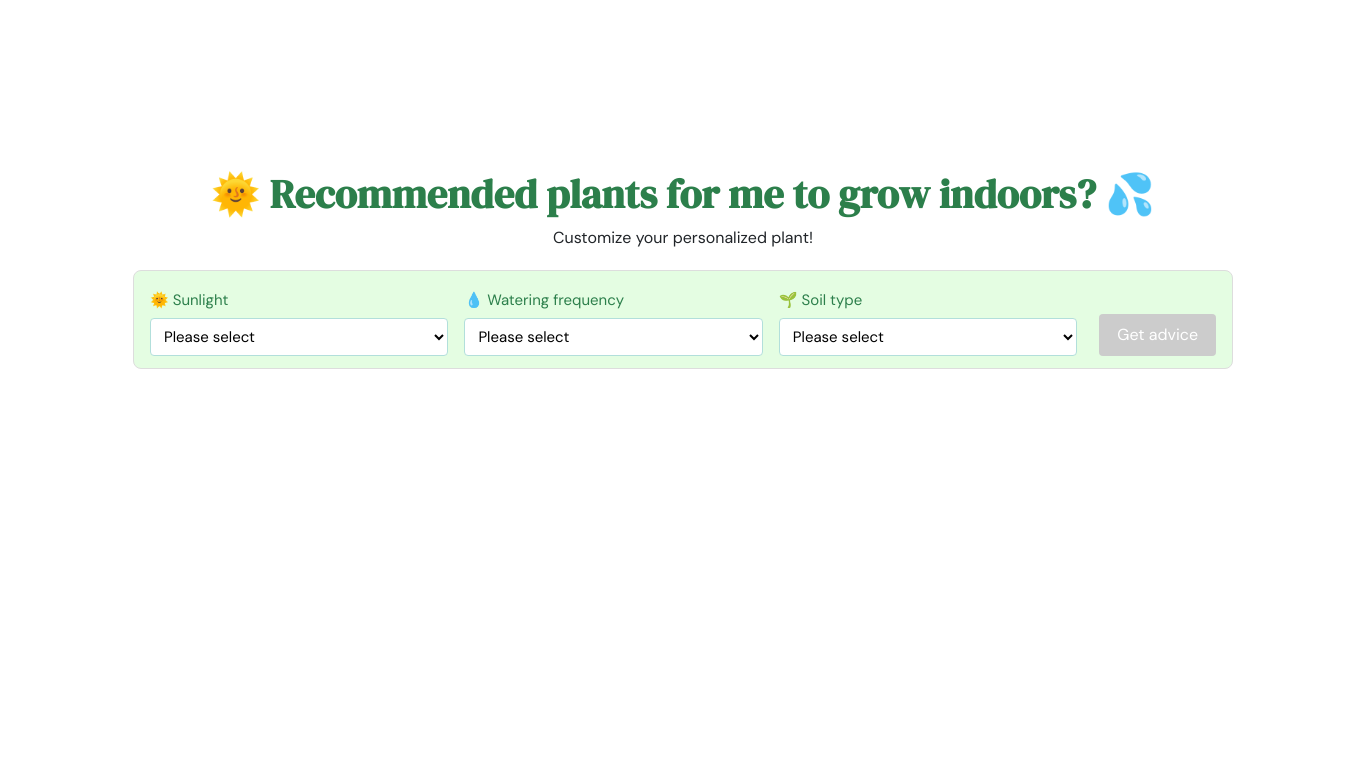
ChatPage › shows loading animation after clicking Get advice
This screenshot has width=1366, height=768.
Step 1. Select "Full sun(8 hours per day)" in the dropdown below "🌞 Sunlight" → [299, 336], box [150,318,448,356]
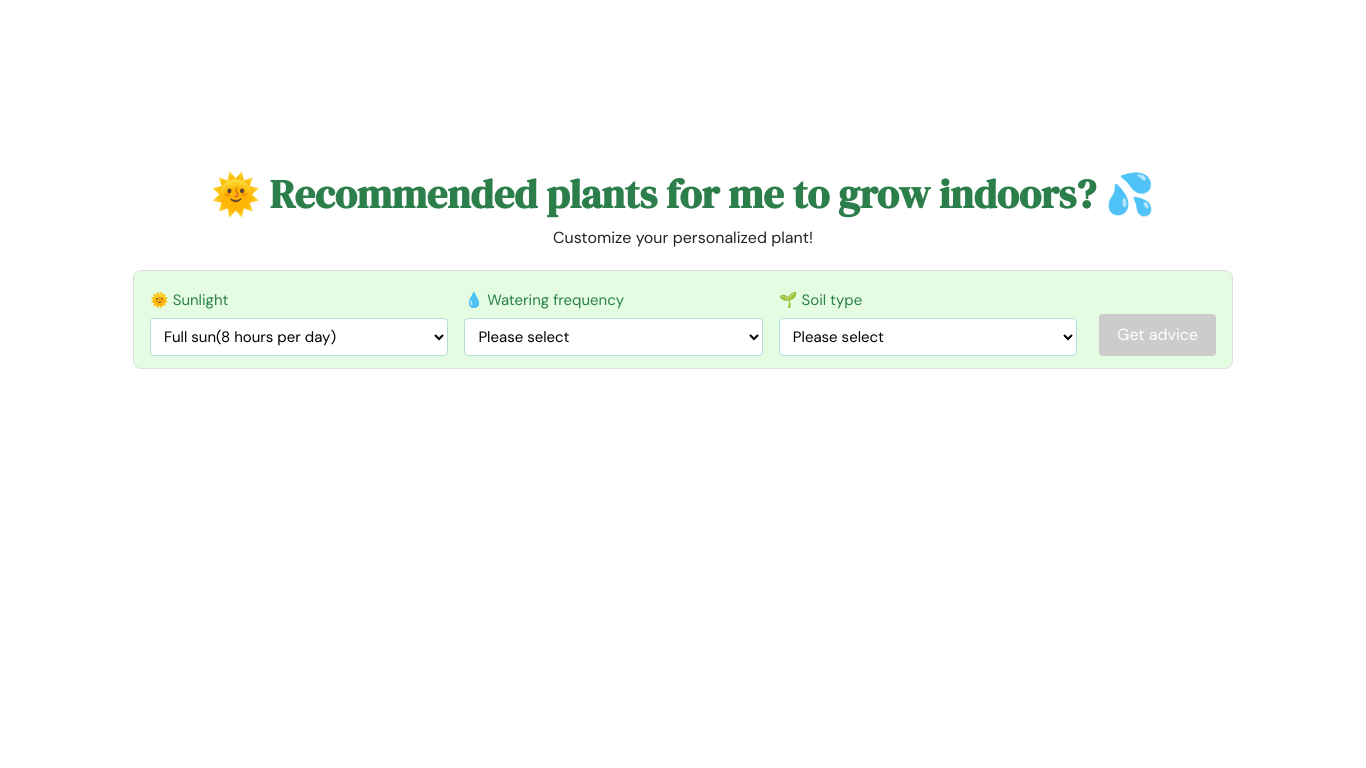
Step 2. Select "Once per week" in the dropdown below "💧 Watering frequency" → [614, 336], box [464,318,763,356]
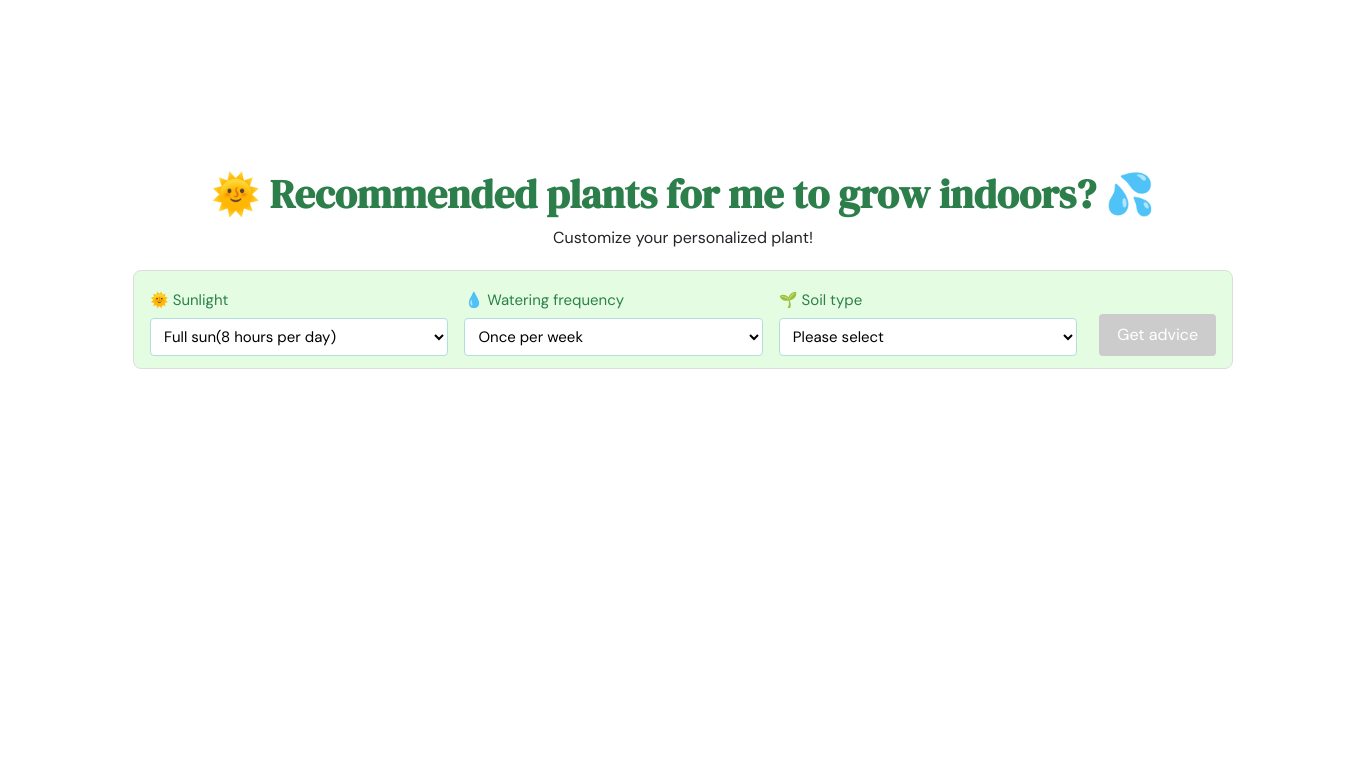
Step 3. Select "Peat soil" in the dropdown below "🌱 Soil type" → [928, 336], box [779,318,1077,356]
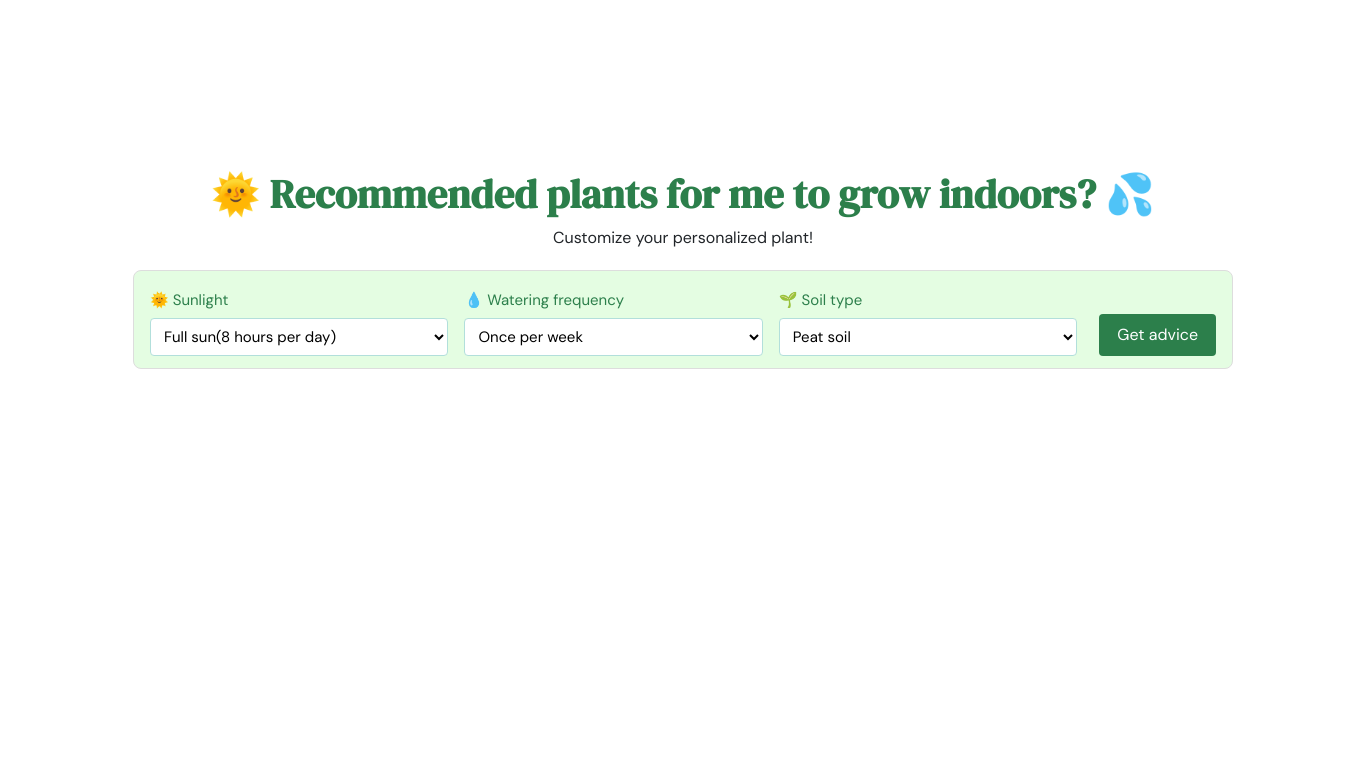
Step 4. Click the button "Get advice" → [1158, 334], box [1099,314,1216,356]
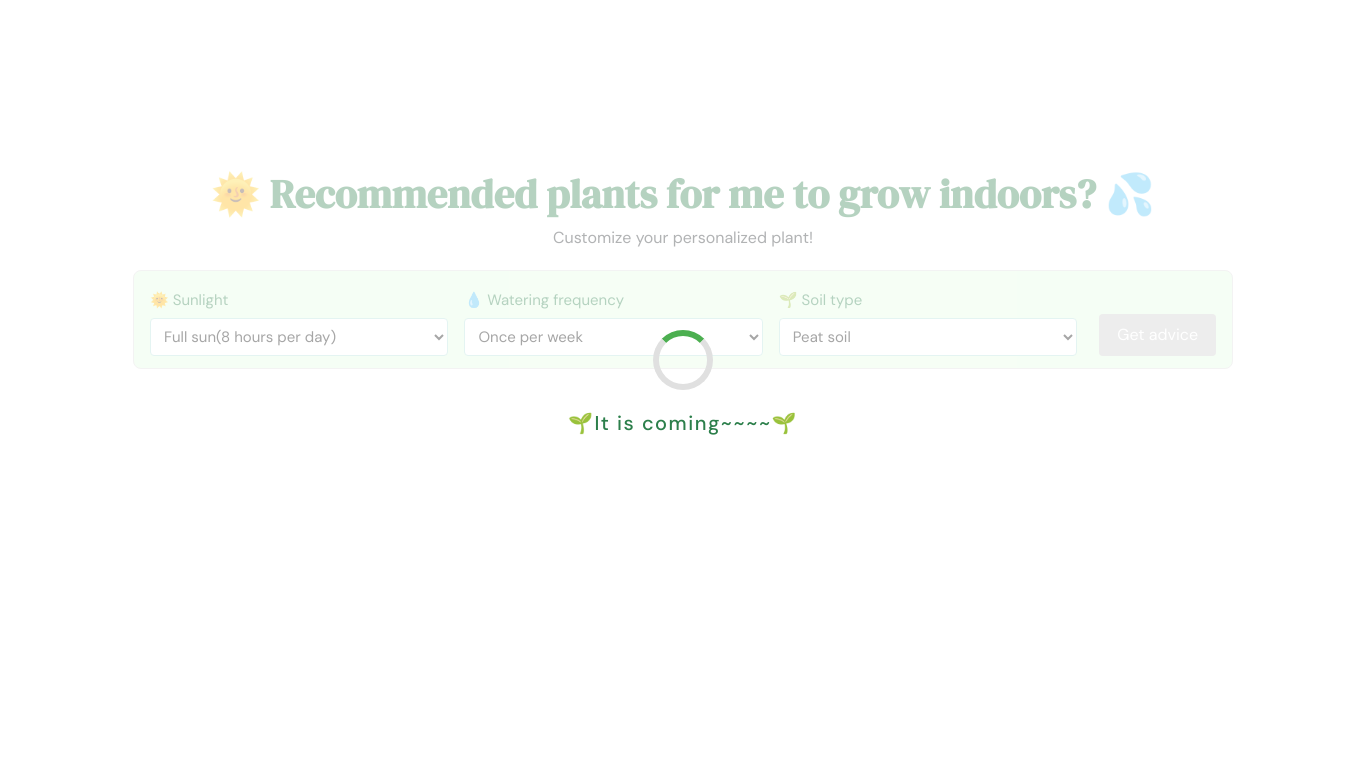
Check: the element with class "loading-overlay" is shown
Check: the text "It is coming" is shown, box [568,410,798,436]
